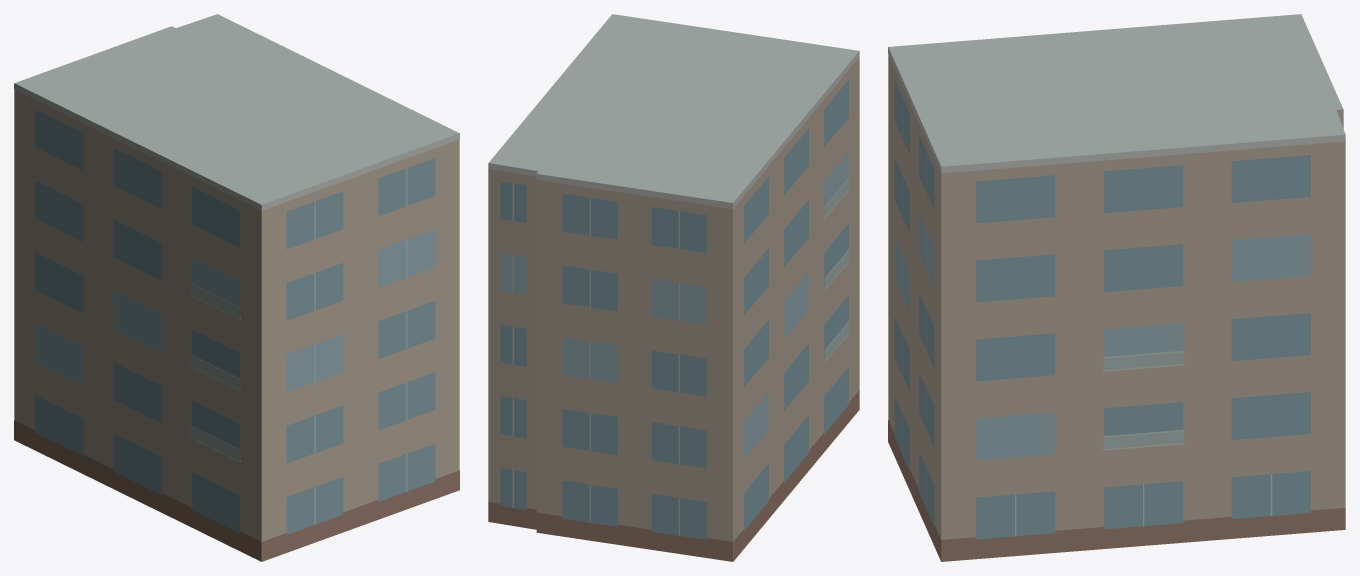
File: survey-upis-32881869.glb
3 renders of one model, left to right at view 1: azimuth 30°, elevation 25°; view 2: azimuth 150°, elevation 25°; view 3: azimuth 270°, elevation 25°, orthographic. The views are drawn at different scales.
Parts seen in each view (by area): view 1: survey-upis-32881869.tmp; view 2: survey-upis-32881869.tmp; view 3: survey-upis-32881869.tmp.
Boxes of the visible parts, bbox=[...] form: survey-upis-32881869.tmp: bbox=[14, 14, 459, 561]; survey-upis-32881869.tmp: bbox=[488, 14, 859, 561]; survey-upis-32881869.tmp: bbox=[888, 14, 1345, 561].
Size of the model in its own units: 11.99 by 14.45 by 15.17.
